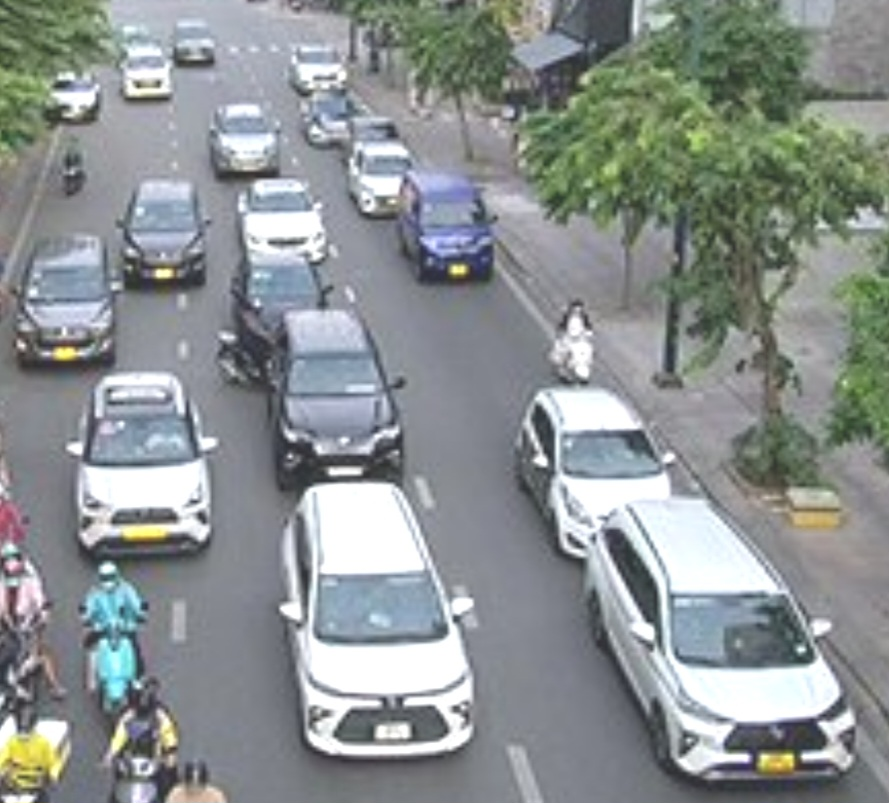car: (588, 501, 860, 783), (278, 488, 477, 762), (515, 389, 675, 561), (263, 315, 414, 495), (74, 375, 209, 558), (11, 236, 114, 368), (398, 173, 494, 281), (121, 180, 208, 286), (234, 179, 328, 260), (236, 252, 326, 316), (208, 102, 282, 176), (351, 140, 412, 216), (121, 47, 172, 102), (291, 45, 349, 90)
